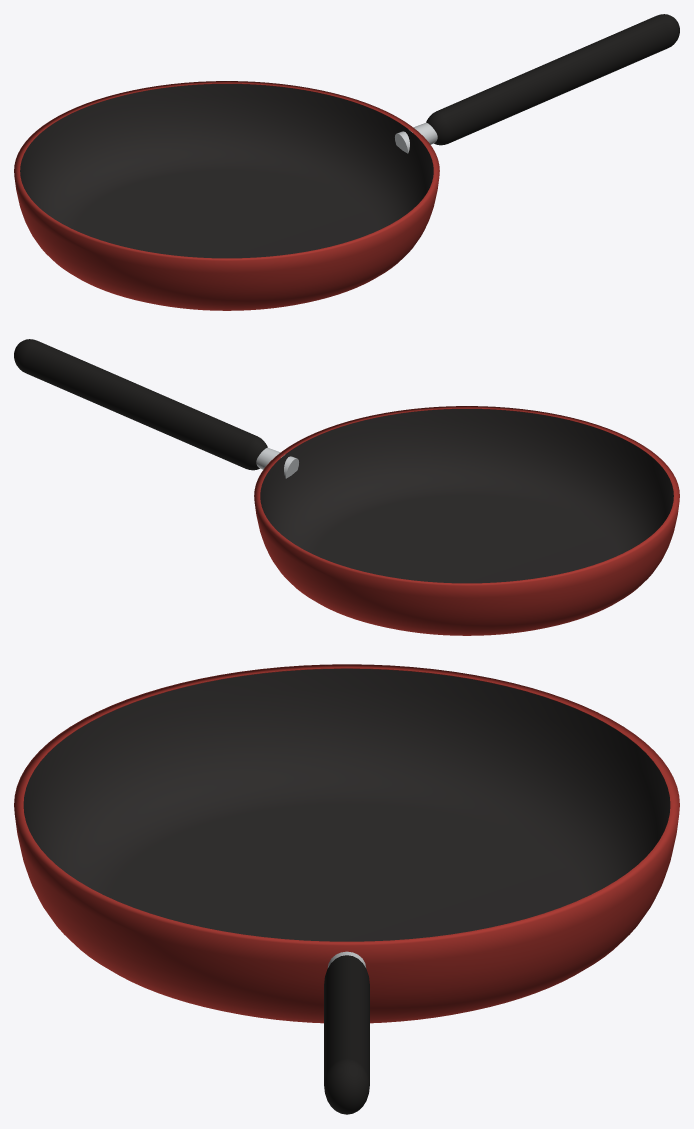
File: de-chef.glb
3 views of the same model, one above another, from view 1: azimuth 30°, elevation 25°; view 2: azimuth 150°, elevation 25°; view 3: azimuth 270°, elevation 25° (orthographic). The views are drawn at different scales.
Parts seen in each view (by area): view 1: Interior, Shell, Handle, Bracket; view 2: Interior, Shell, Handle, Bracket; view 3: Interior, Shell, Handle.
Part boxes in pixels (x1,y1,x2,y2): Interior: [20, 84, 433, 258]; Shell: [14, 81, 439, 310]; Handle: [426, 14, 679, 145]; Bracket: [395, 122, 437, 153]; Interior: [260, 409, 673, 583]; Shell: [254, 406, 679, 635]; Handle: [14, 339, 267, 470]; Bracket: [256, 447, 298, 478]; Interior: [23, 668, 670, 941]; Shell: [14, 664, 679, 1023]; Handle: [324, 955, 369, 1114].
Size of the model in its own units: 0.4828 by 0.0858 by 0.28.
